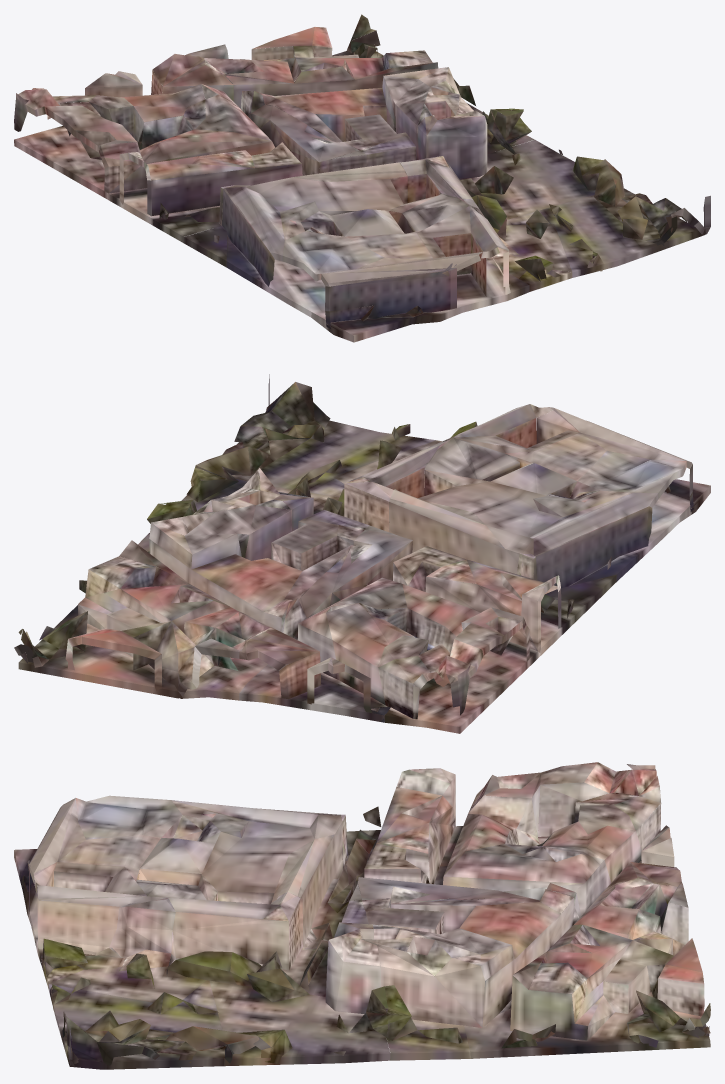
3 views of the same model, one above another, from view 1: azimuth 30°, elevation 25°; view 2: azimuth 150°, elevation 25°; view 3: azimuth 270°, elevation 25° (orthographic). The views are drawn at different scales.
Visible parts, largest first — view 1: Mesh_0; view 2: Mesh_0; view 3: Mesh_0.
Boxes of the visible parts, left/top/right/bottom form: Mesh_0: left=14, top=14, right=710, bottom=342; Mesh_0: left=14, top=374, right=710, bottom=733; Mesh_0: left=14, top=762, right=710, bottom=1069.
Bounding box in the file's own units: 270 × 43.26 × 330.
2 materials, 2 textured.
